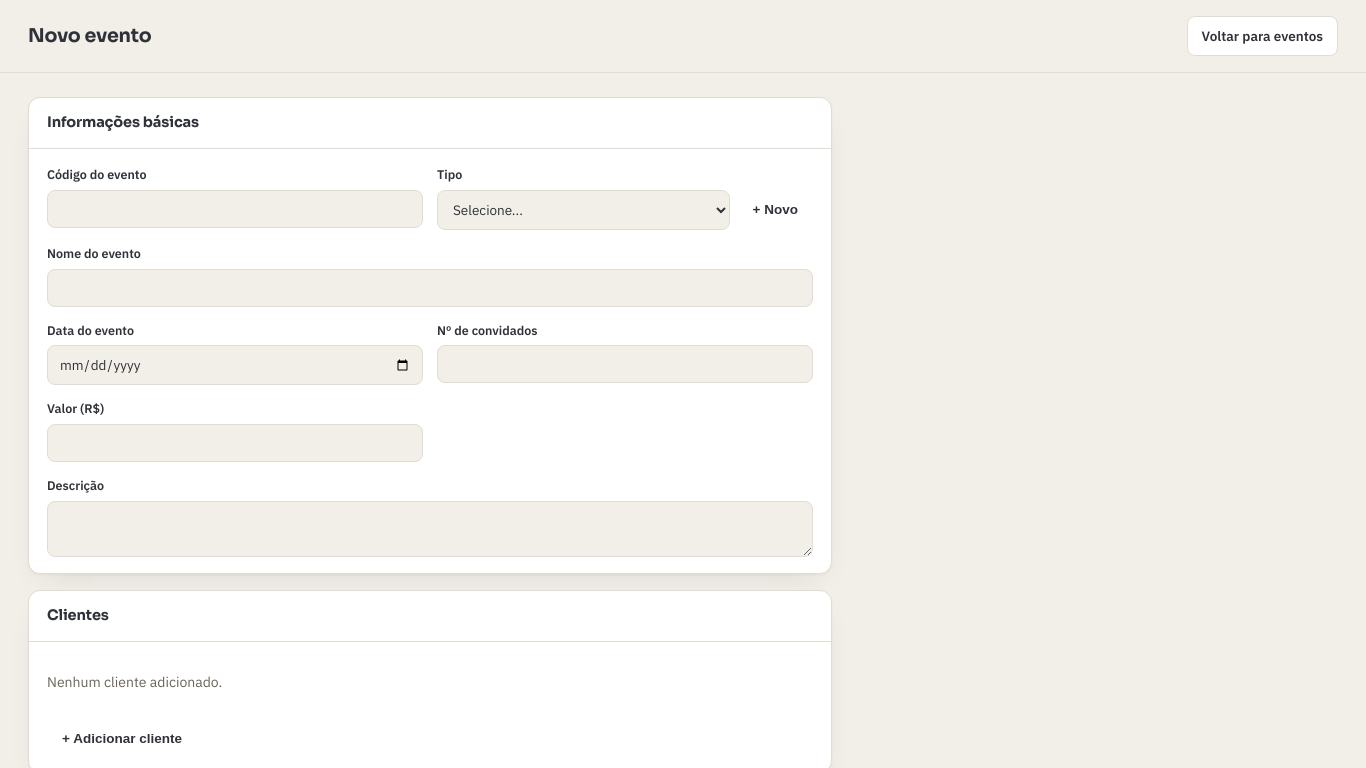
Test: EventFormPage › cria um evento novo com os dados preenchidos e mostra toast de sucesso
Expected: the dropdown labelled "Tipo" is shown, [437, 190, 730, 230]
Type "EVT-099" into the field labelled "Código do evento" at (235, 209), box [47, 190, 423, 228]
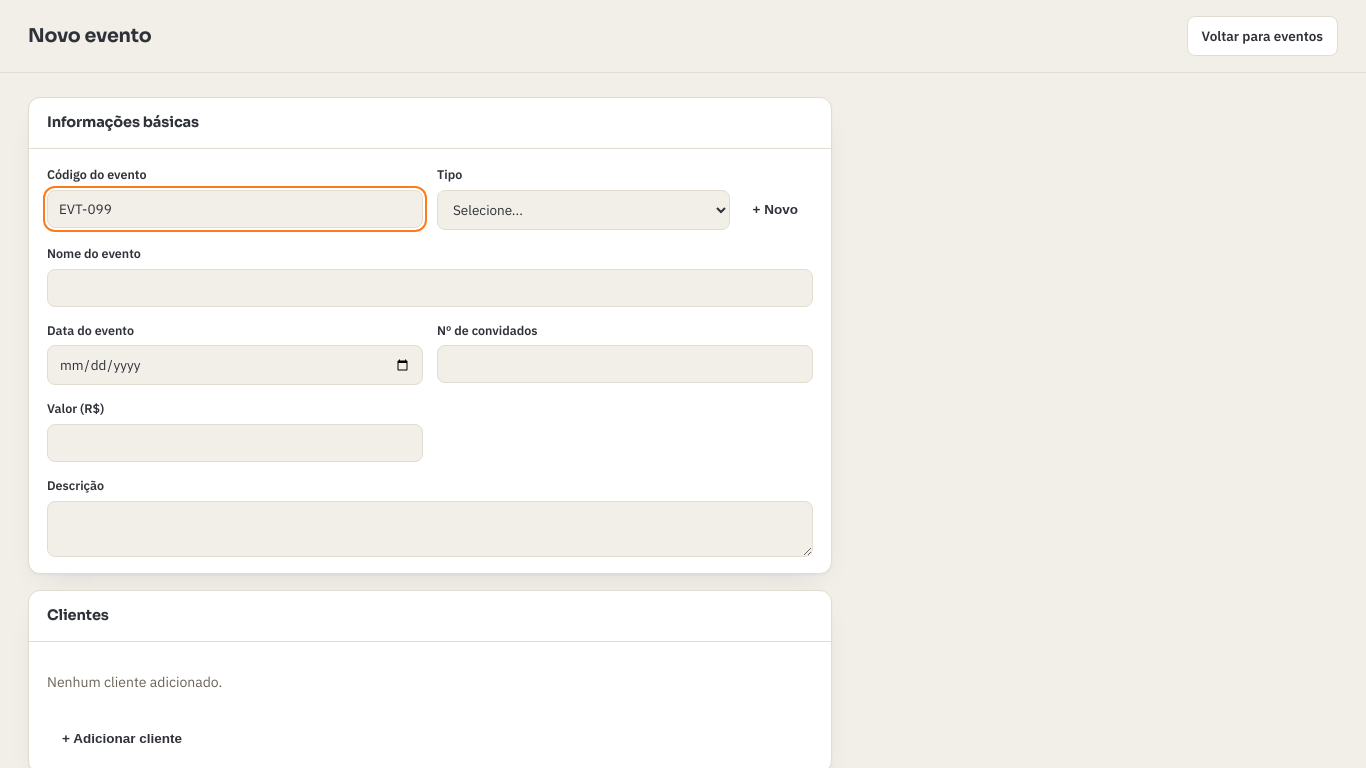
Select "PHOTO_SHOOT" in the dropdown labelled "Tipo" at (583, 210), box [437, 190, 730, 230]
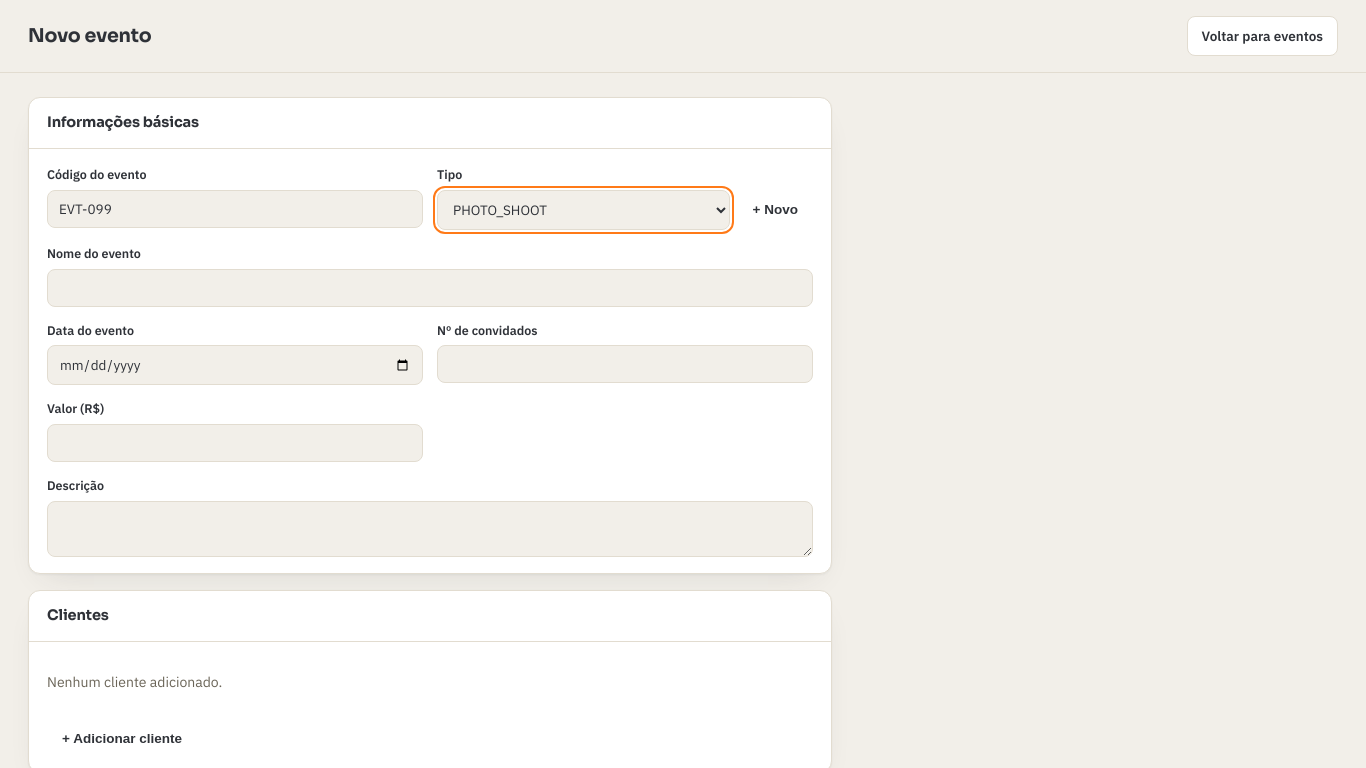
Type "Ensaio Externo" into the field labelled "Nome do evento" at (430, 288), box [47, 268, 813, 306]
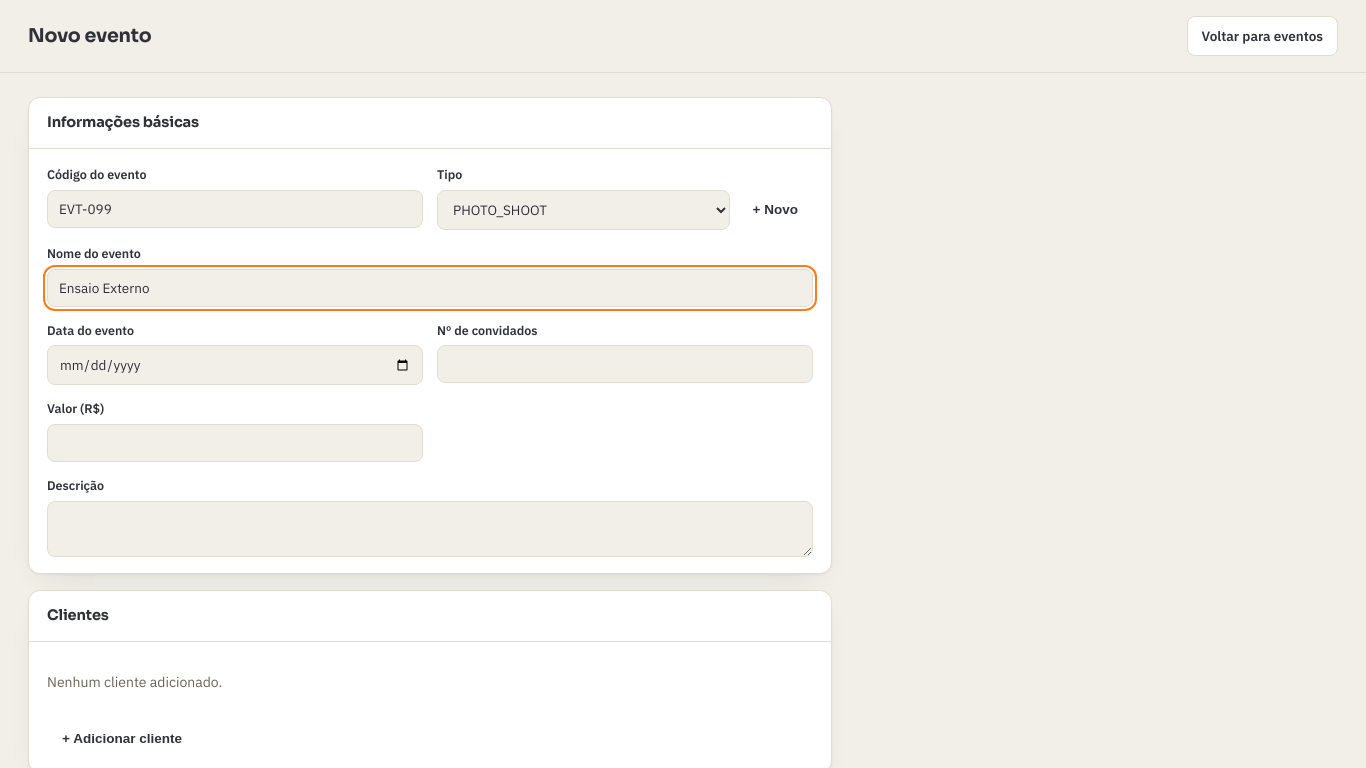
Type "2026-11-20" into the date field labelled "Data do evento" at (235, 365), box [47, 345, 423, 385]
(page scrolled)
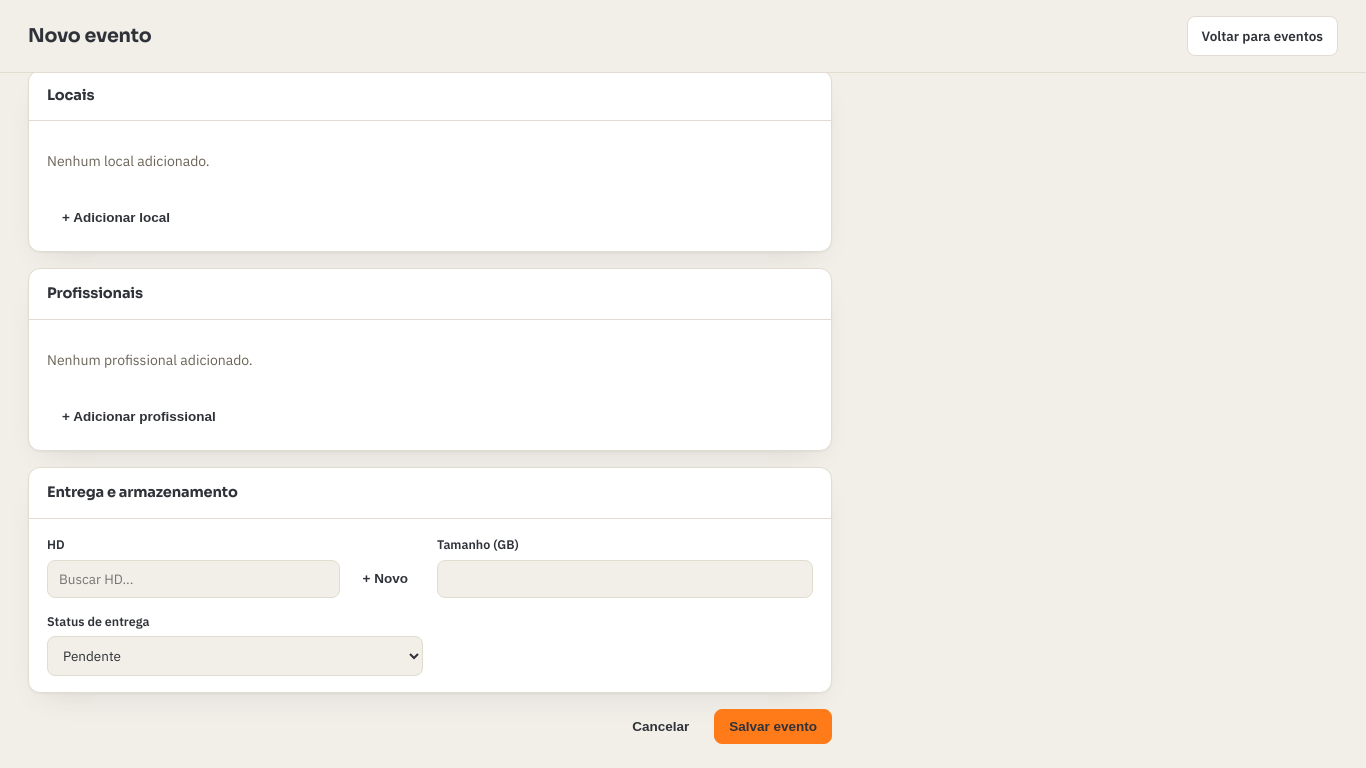
Click the button "Salvar evento" at (773, 727), box [714, 709, 832, 744]
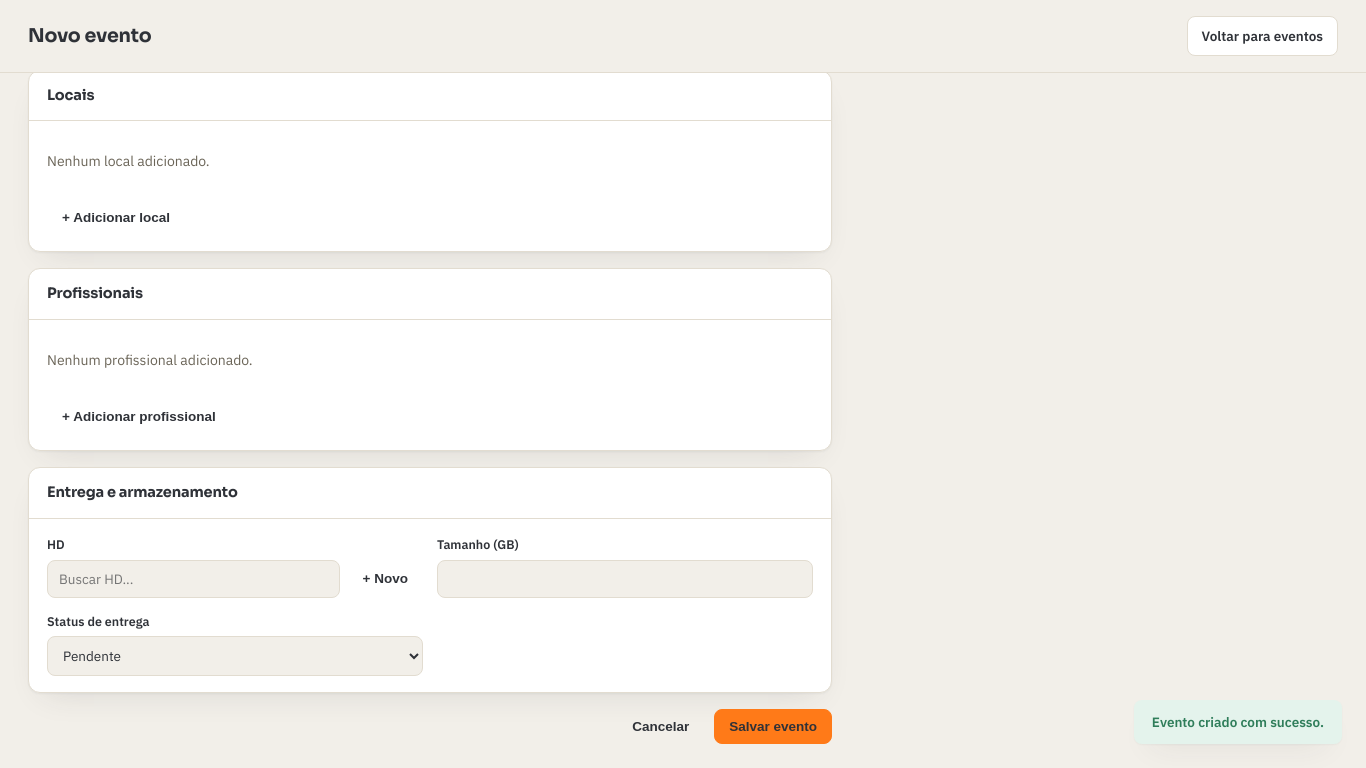
Now the text "Evento criado com sucesso." is shown, box [1134, 700, 1342, 744]
